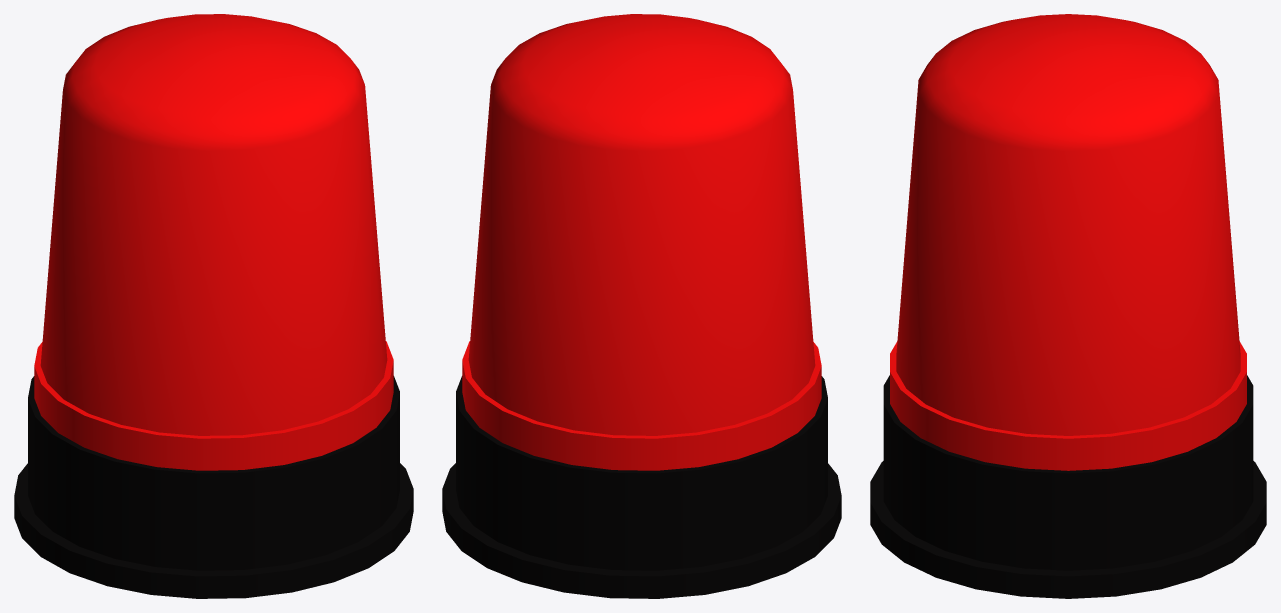
File: Lamp.fbx
The picture shows the model from 3 angles, left to right: view 1: azimuth 30°, elevation 25°; view 2: azimuth 150°, elevation 25°; view 3: azimuth 270°, elevation 25°; orthographic projection.
Parts seen in each view (by area): view 1: Cylinder001; view 2: Cylinder001; view 3: Cylinder001.
Part boxes in pixels (x1,y1,x2,y2): Cylinder001: [14, 14, 413, 598]; Cylinder001: [442, 14, 841, 598]; Cylinder001: [870, 14, 1266, 598].
Bounding box in the file's own units: 59.87 × 77.56 × 59.43.
